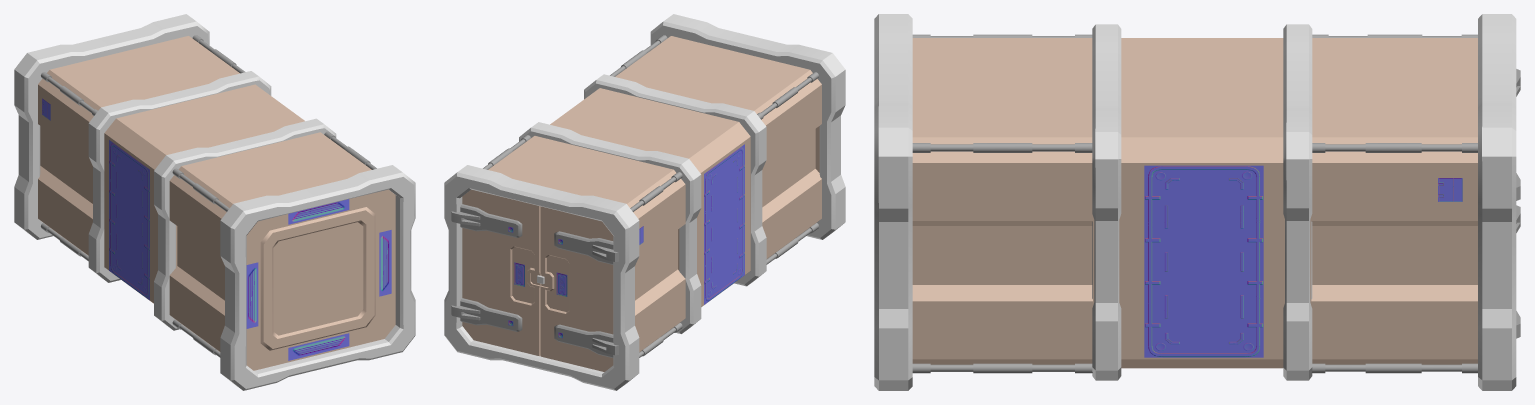
File: S_Conteneur.fbx
3 renders of one model, left to right at view 1: azimuth 30°, elevation 25°; view 2: azimuth 150°, elevation 25°; view 3: azimuth 270°, elevation 25°, orthographic. The views are drawn at different scales.
Parts seen in each view (by area): view 1: Conteneur; view 2: Conteneur; view 3: Conteneur.
Boxes of the visible parts, x1,y1,x2,y2 form: Conteneur: [14, 14, 415, 390]; Conteneur: [444, 14, 845, 390]; Conteneur: [874, 14, 1520, 390].
Size of what is drawn, in the model's own units: 433 by 402 by 895.
